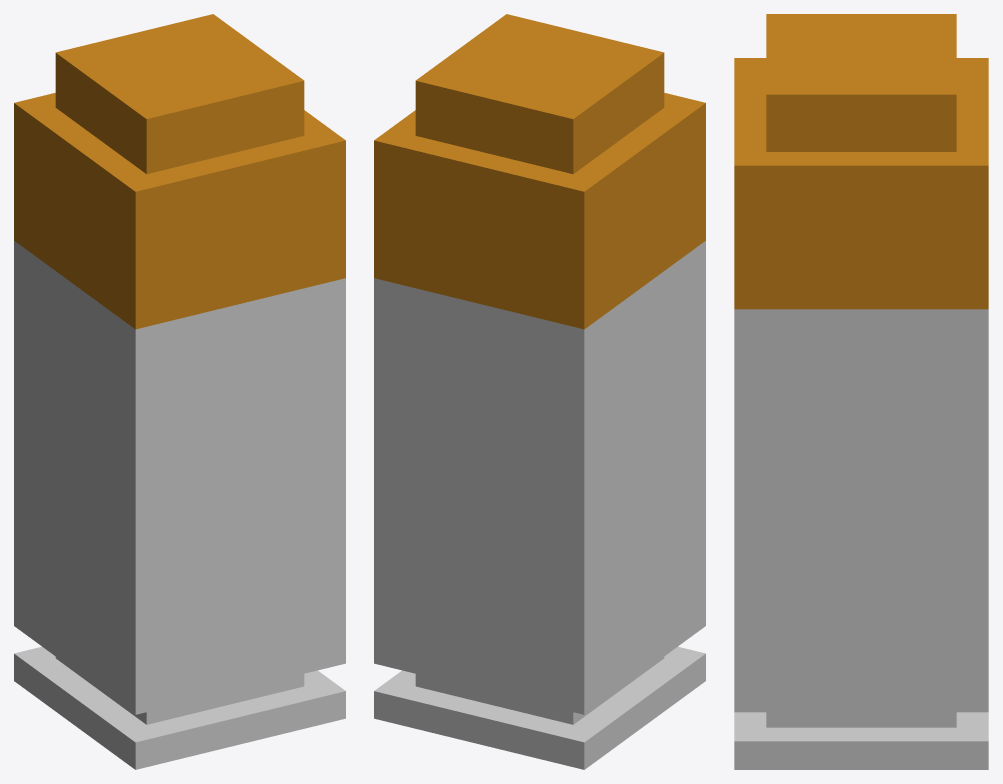
File: pistol_bullet.fbx
3 views of the same model, side by side, from view 1: azimuth 30°, elevation 25°; view 2: azimuth 150°, elevation 25°; view 3: azimuth 270°, elevation 25° (orthographic). The views are drawn at different scales.
Parts seen in each view (by area): view 1: pistol_capsule, pistol_bullet; view 2: pistol_capsule, pistol_bullet; view 3: pistol_capsule, pistol_bullet.
Boxes of the visible parts, x1=… form: pistol_capsule: x1=14, y1=241, x2=345, y2=769; pistol_bullet: x1=14, y1=14, x2=345, y2=329; pistol_capsule: x1=374, y1=241, x2=705, y2=769; pistol_bullet: x1=374, y1=14, x2=705, y2=329; pistol_capsule: x1=734, y1=309, x2=988, y2=769; pistol_bullet: x1=734, y1=14, x2=988, y2=309.
Bounding box in the file's own units: 2.4 × 6.9 × 2.4.
